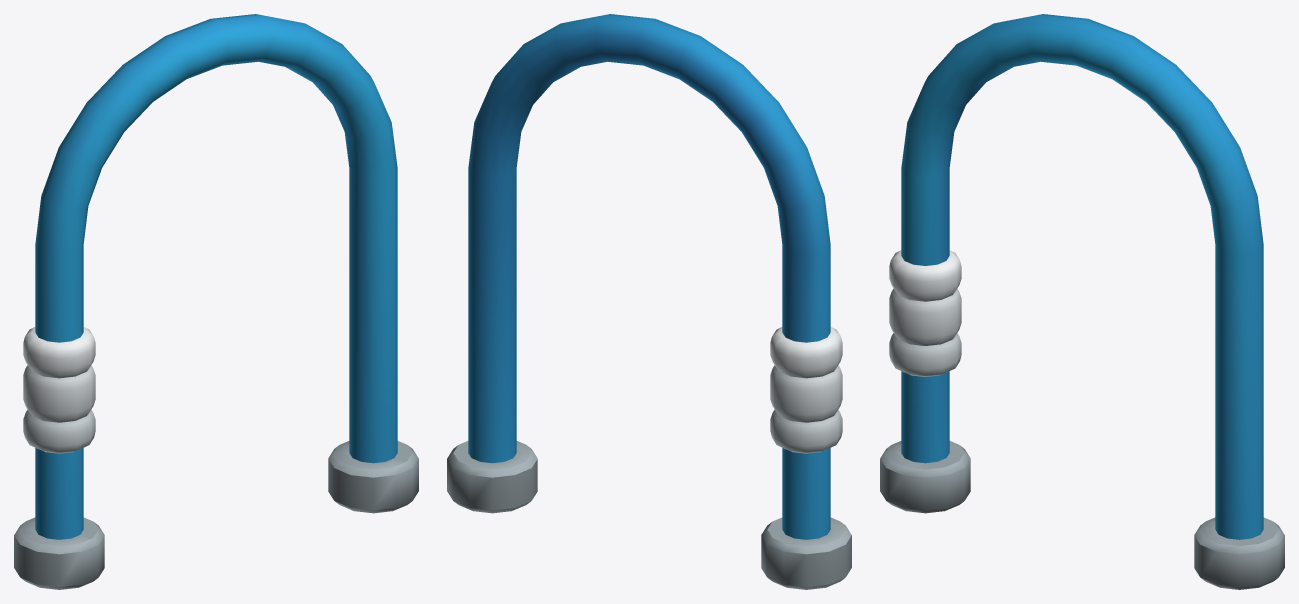
File: arch_tall_blue.glb
3 renders of one model, left to right at view 1: azimuth 30°, elevation 25°; view 2: azimuth 150°, elevation 25°; view 3: azimuth 330°, elevation 25°, orthographic.
Parts seen in each view (by area): view 1: arch_tall_blue; view 2: arch_tall_blue; view 3: arch_tall_blue.
Boxes of the visible parts, left/top/right/bottom form: arch_tall_blue: left=14, top=14, right=418, bottom=589; arch_tall_blue: left=447, top=14, right=851, bottom=589; arch_tall_blue: left=880, top=14, right=1284, bottom=589.
Size of the model in its own units: 3.75 by 4.7 by 0.75.
Materials: 1 (1 with a texture image).
